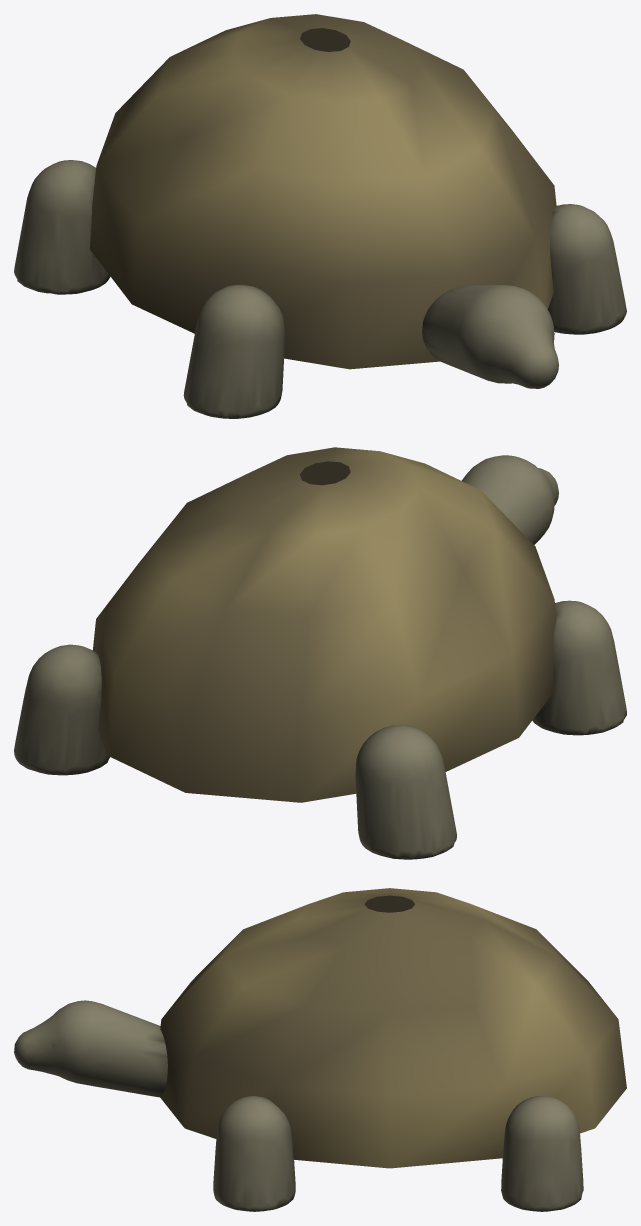
Rendered from landschildkroete.glb.
3 views of the same model, one above another, from view 1: azimuth 30°, elevation 25°; view 2: azimuth 150°, elevation 25°; view 3: azimuth 270°, elevation 25° (orthographic). The views are drawn at different scales.
Parts seen in each view (by area): view 1: lack; view 2: lack; view 3: lack.
Boxes of the visible parts, x1,y1,x2,y2 form: lack: [14, 14, 626, 418]; lack: [14, 447, 626, 859]; lack: [14, 888, 626, 1211].
Bounding box in the file's own units: 0.4968 × 0.288 × 0.7241.
